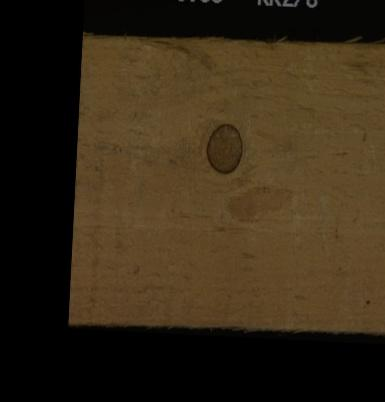dry_knot: (204, 121, 242, 173)
